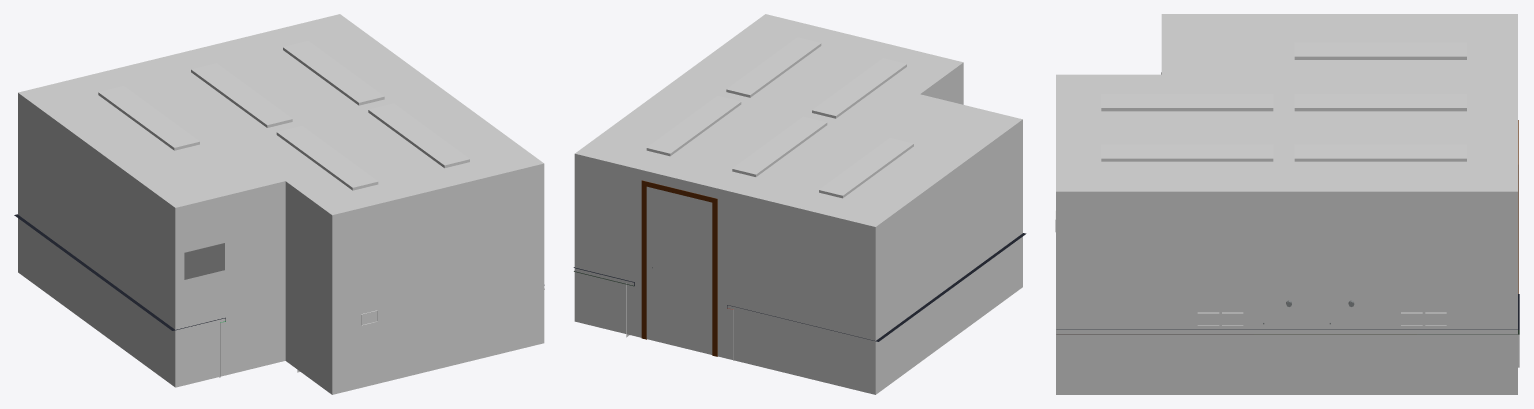
The model's file is level_1.fbx.
The picture shows the model from 3 angles, left to right: view 1: azimuth 30°, elevation 25°; view 2: azimuth 150°, elevation 25°; view 3: azimuth 270°, elevation 25°; orthographic projection. The views are drawn at different scales.
Parts seen in each view (by area): view 1: background, Cube.010, Cube.008, Cube.007, Cube.009, Cube.011, Cube.004, Cube.001; view 2: background, Cube.003, Cube.008, Cube.007, Cube.009, Cube.010, Cube.011, Cube.001; view 3: background, Cube.008, Cube.007, Cube.009, Cube.010, Cube.011, bancada.
Part boxes in pixels (x1,y1,x2,y2): background: [18, 14, 544, 394]; Cube.010: [276, 126, 378, 190]; Cube.008: [283, 41, 384, 105]; Cube.007: [368, 103, 469, 168]; Cube.009: [191, 63, 292, 127]; Cube.011: [98, 86, 199, 150]; Cube.004: [184, 243, 224, 279]; Cube.001: [14, 214, 225, 377]; background: [574, 14, 1022, 394]; Cube.003: [641, 180, 717, 356]; Cube.008: [646, 96, 741, 156]; Cube.007: [726, 37, 821, 97]; Cube.009: [732, 117, 827, 176]; Cube.010: [812, 58, 906, 118]; Cube.011: [819, 138, 913, 198]; Cube.001: [727, 233, 1026, 360]; background: [1056, 14, 1517, 394]; Cube.008: [1294, 144, 1466, 161]; Cube.007: [1101, 144, 1273, 161]; Cube.009: [1294, 94, 1466, 111]; Cube.010: [1101, 94, 1273, 111]; Cube.011: [1294, 42, 1466, 59]; bancada: [1056, 294, 1519, 367].
Size of the model in its own units: 13807 by 7455 by 14932.
3 materials, 1 textured.
